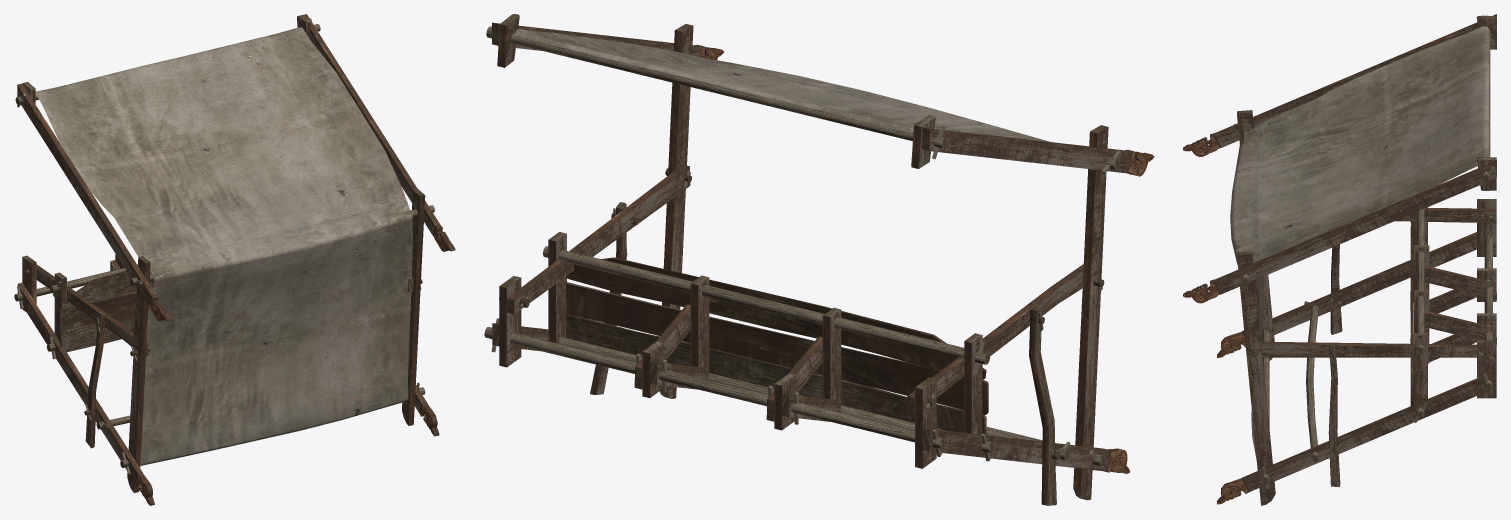
The model's file is ACK_CWL_VIK_MerchantTent_01B_LOD0-transformed.glb.
3 renders of one model, left to right at view 1: azimuth 30°, elevation 25°; view 2: azimuth 150°, elevation 25°; view 3: azimuth 270°, elevation 25°, orthographic. The views are drawn at different scales.
Parts seen in each view (by area): view 1: ACK_CWL_VIK_MerchantTent_01B_LOD0; view 2: ACK_CWL_VIK_MerchantTent_01B_LOD0; view 3: ACK_CWL_VIK_MerchantTent_01B_LOD0.
Boxes of the visible parts, x1,y1,x2,y2 form: ACK_CWL_VIK_MerchantTent_01B_LOD0: (14, 14, 455, 505); ACK_CWL_VIK_MerchantTent_01B_LOD0: (484, 14, 1154, 505); ACK_CWL_VIK_MerchantTent_01B_LOD0: (1183, 14, 1496, 505).
Size of the model in its own units: 0.0431 by 0.0441 by 0.0361.
Materials: 3 (3 with a texture image).
